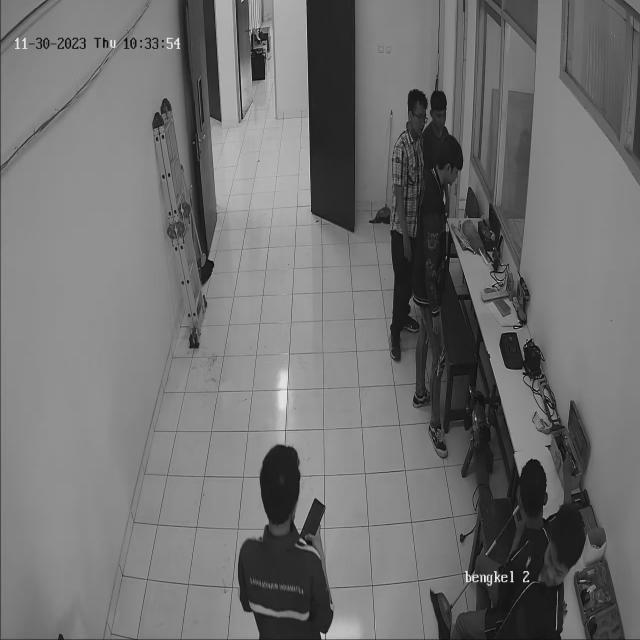person: (226, 428, 356, 640)
